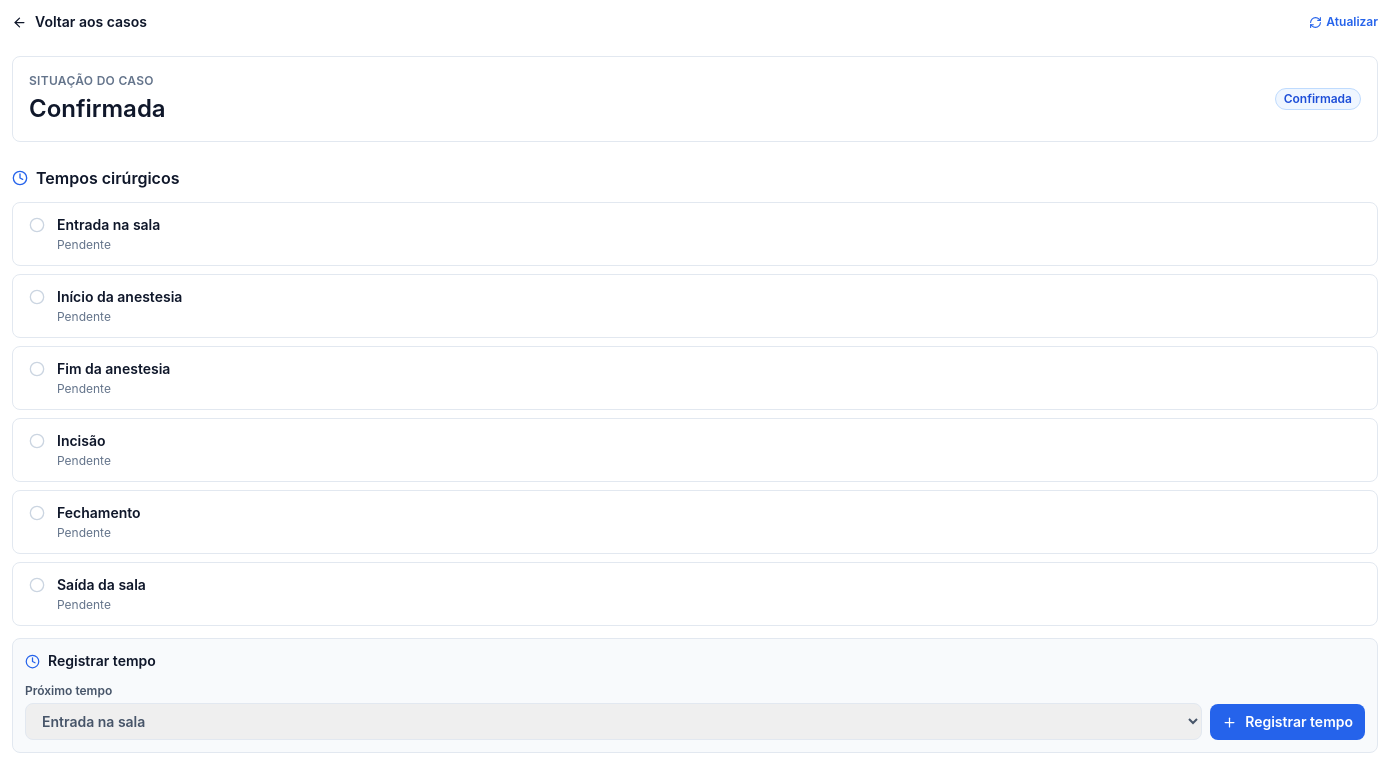
Test: SurgeryIntraopPanel › surfaces an out-of-order record-time 409 as "fora de ordem"
This screenshot has width=1390, height=780.
Click the button "Registrar tempo". click: (1288, 722)
box: [1210,704,1365,740]
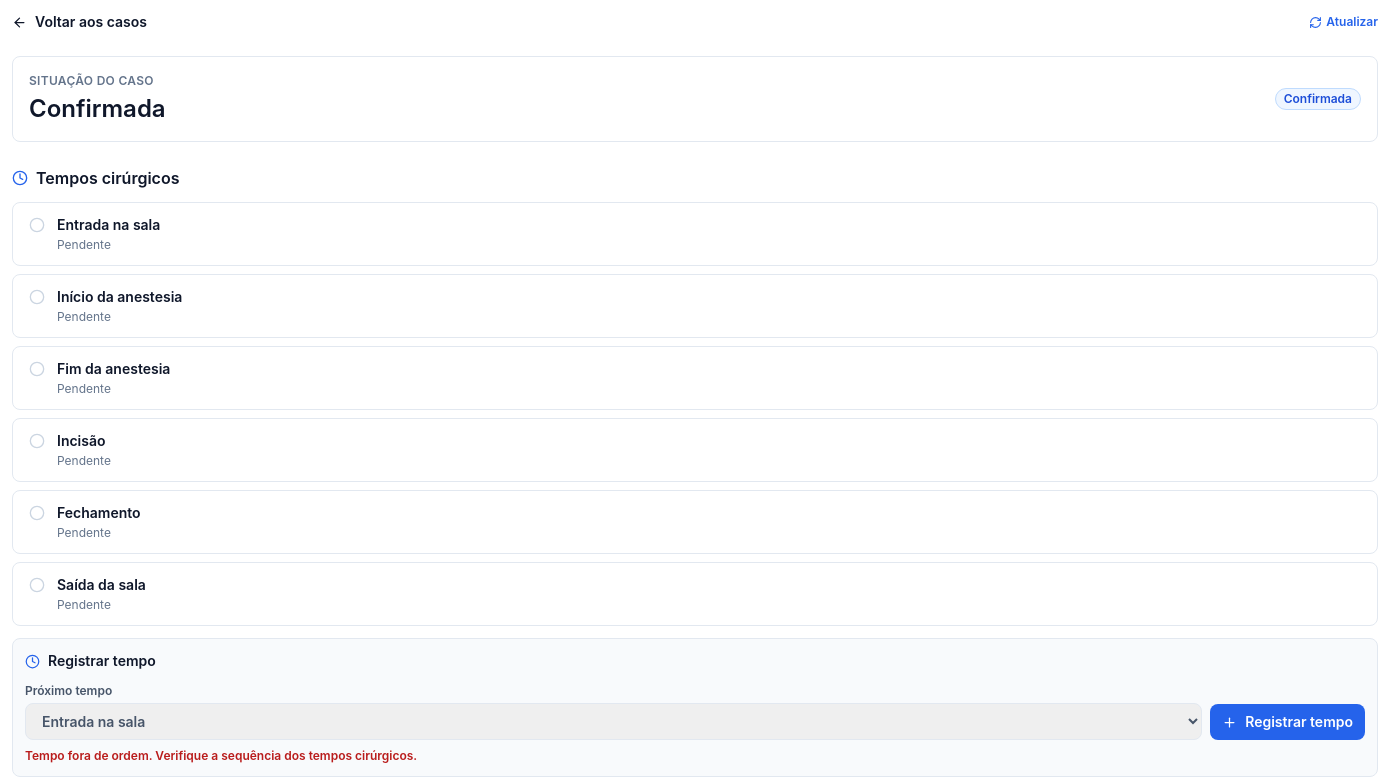
Expected: the text "fora de ordem" is shown, [25,748,417,763]
